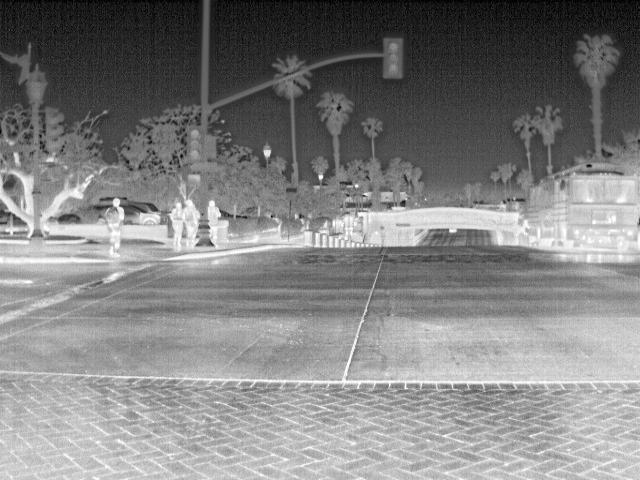car: (125, 206, 164, 225), (90, 205, 112, 223)
person: (103, 196, 125, 259), (181, 197, 198, 253), (167, 199, 184, 253), (205, 198, 222, 247)
